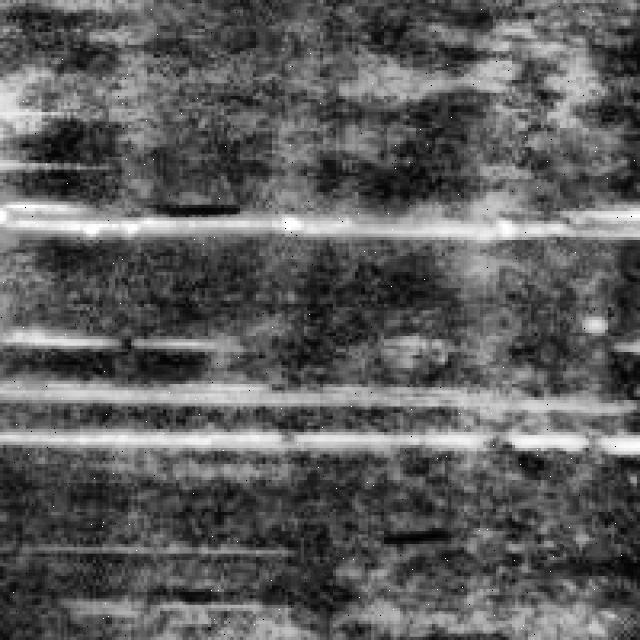Inclusion: (0, 368, 630, 451), (0, 185, 630, 243)
